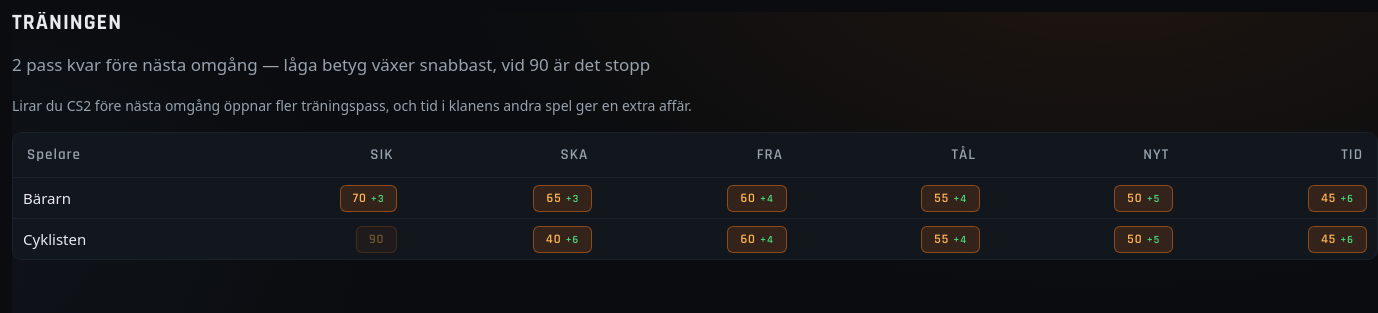
Test case: TrainingDesk › shows the server's verdict when the pass is refused
Click the button "70+3" at (368, 198), box [340,185,397,212]
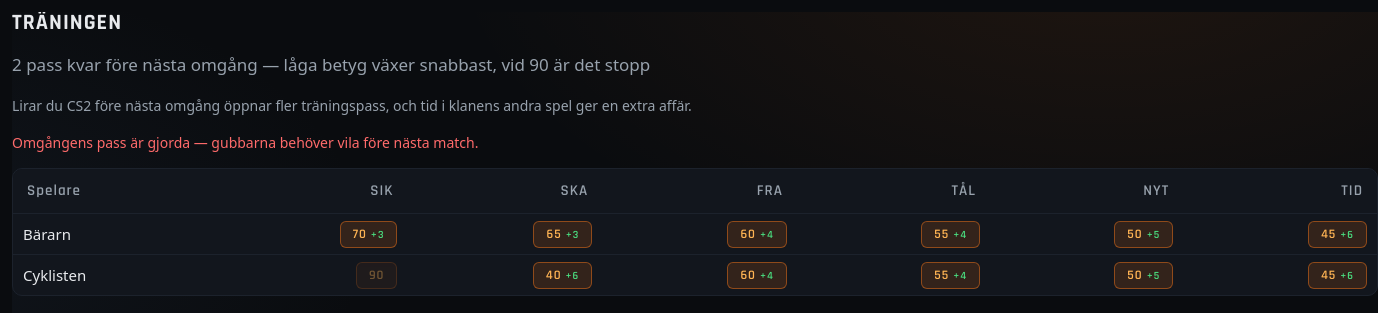
Result: the text "gubbarna behöver vila" is shown at [12,133,478,152]
